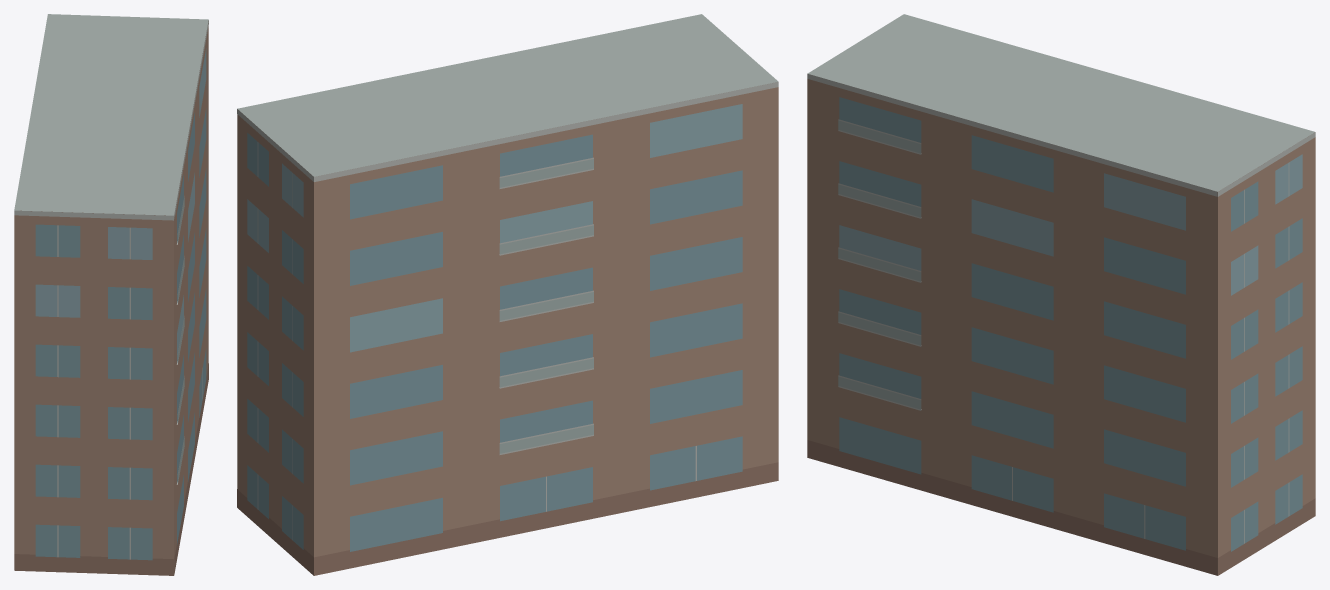
The model's file is survey-upis-32966320.glb.
3 renders of one model, left to right at view 1: azimuth 30°, elevation 25°; view 2: azimuth 150°, elevation 25°; view 3: azimuth 270°, elevation 25°, orthographic. The views are drawn at different scales.
Parts seen in each view (by area): view 1: survey-upis-32966320.tmp; view 2: survey-upis-32966320.tmp; view 3: survey-upis-32966320.tmp.
Boxes of the visible parts, <box> form: survey-upis-32966320.tmp: <box>14,14,208,575</box>; survey-upis-32966320.tmp: <box>237,14,778,575</box>; survey-upis-32966320.tmp: <box>807,14,1315,575</box>.
Bounding box in the file's own units: 18.18 × 18.3 × 21.95.
